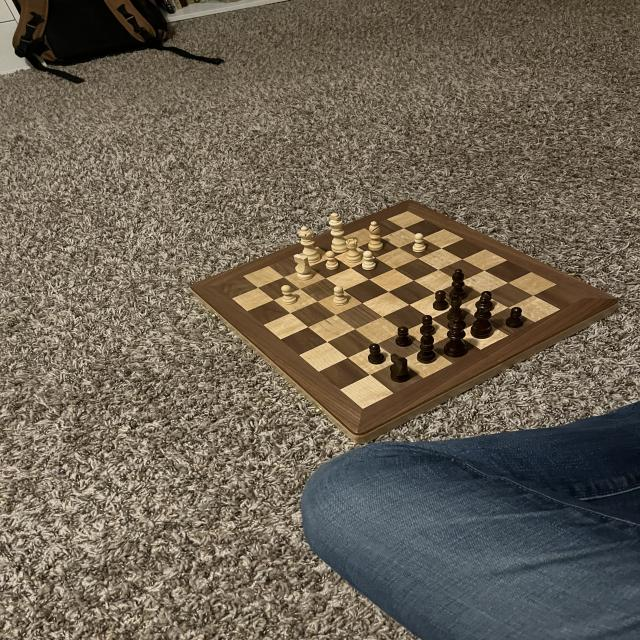bishop: (447, 265, 468, 303), (418, 327, 439, 364)
black-bishop: (472, 294, 495, 339)
black-king: (387, 351, 412, 386)
black-knight: (505, 306, 525, 330), (476, 289, 496, 313), (366, 342, 386, 366), (418, 314, 439, 336), (430, 290, 450, 312), (395, 325, 413, 347)
black-pawn: (442, 316, 470, 360)
black-queen: (446, 292, 468, 324)
black-rook: (364, 220, 386, 253)
white-bishop: (326, 212, 353, 254)
white-king: (291, 253, 318, 282)
white-knight: (329, 284, 350, 307), (280, 284, 300, 307), (360, 248, 378, 271), (324, 249, 341, 271), (412, 233, 428, 254)
white-pawn: (296, 225, 322, 264)
white-queen: (344, 235, 363, 264)
